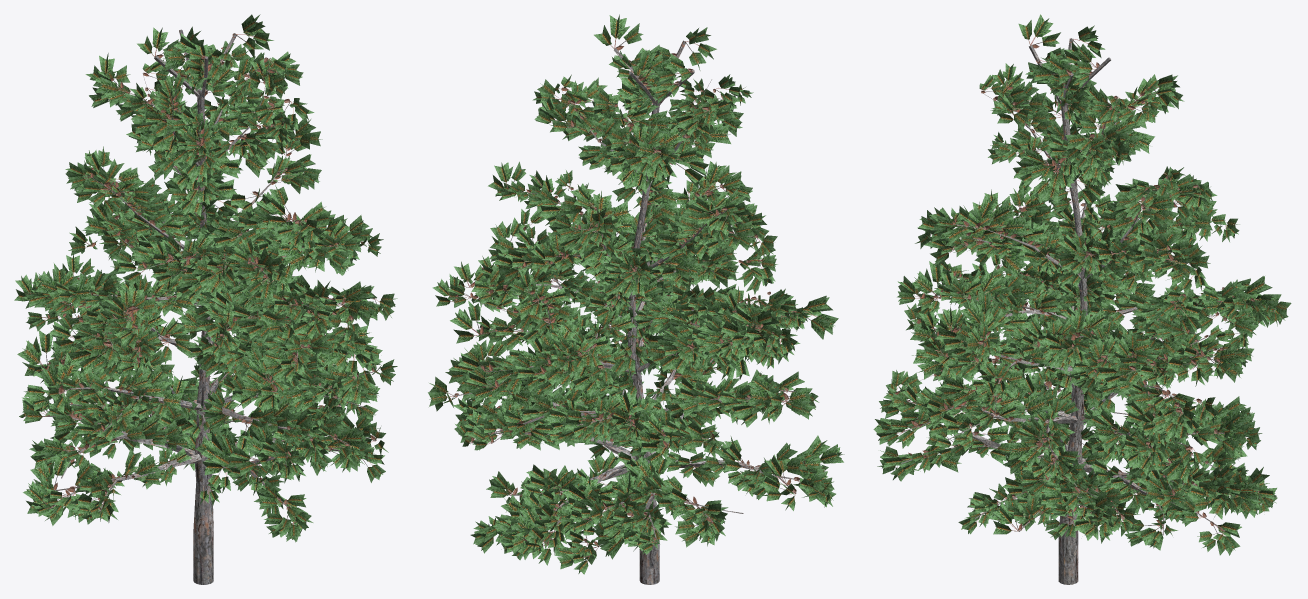
File: sweethome3d-scopia-pine.glb
3 views of the same model, side by side, from view 1: azimuth 30°, elevation 25°; view 2: azimuth 150°, elevation 25°; view 3: azimuth 270°, elevation 25° (orthographic). The views are drawn at different scales.
Visible parts, largest first — view 1: twigs_Cube.001, tree; view 2: twigs_Cube.001, tree; view 3: twigs_Cube.001, tree.
Boxes of the visible parts, x1,y1,x2,y2 form: twigs_Cube.001: (14, 14, 397, 542); tree: (42, 29, 375, 584); twigs_Cube.001: (428, 14, 844, 574); tree: (455, 40, 814, 584); twigs_Cube.001: (873, 14, 1291, 555); tree: (901, 38, 1257, 584).
Bounding box in the file's own units: 375 × 546 × 379.
Materials: 2 (2 with a texture image).
